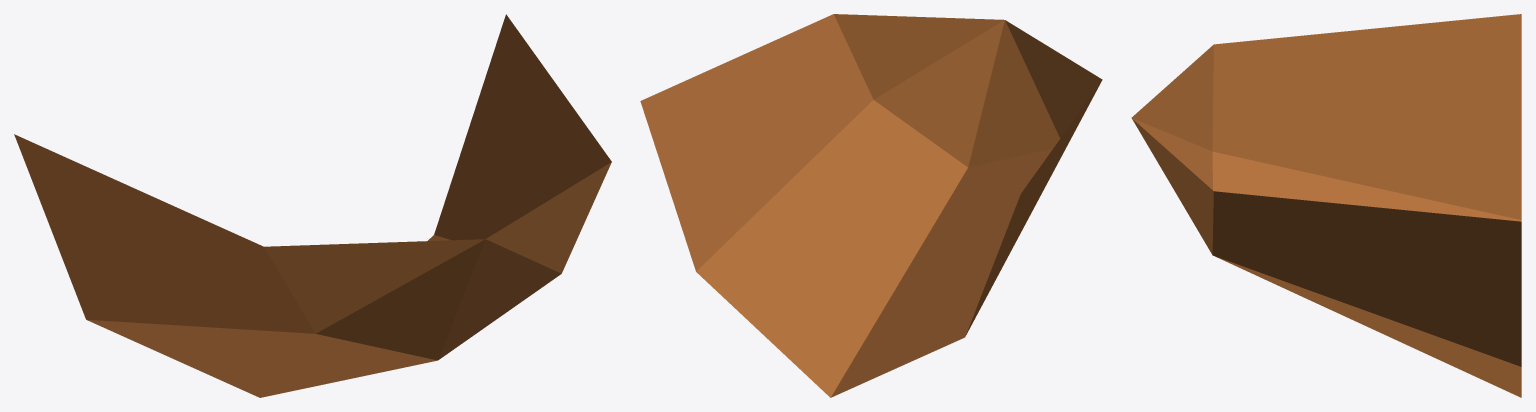
File: ship_front_bottom.fbx
3 renders of one model, left to right at view 1: azimuth 30°, elevation 25°; view 2: azimuth 150°, elevation 25°; view 3: azimuth 270°, elevation 25°, orthographic. The views are drawn at different scales.
Parts seen in each view (by area): view 1: ship_bottom_front; view 2: ship_bottom_front; view 3: ship_bottom_front.
Boxes of the visible parts, x1,y1,x2,y2 form: ship_bottom_front: [14, 14, 611, 397]; ship_bottom_front: [640, 14, 1102, 397]; ship_bottom_front: [1131, 14, 1521, 397].
Bounding box in the file's own units: 3.41 × 2.15 × 2.71.
